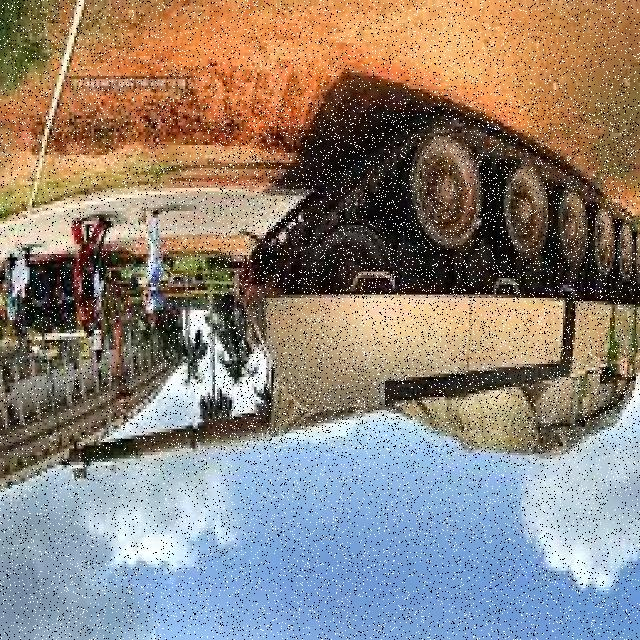MIL_MBT: (219, 102, 635, 453)
